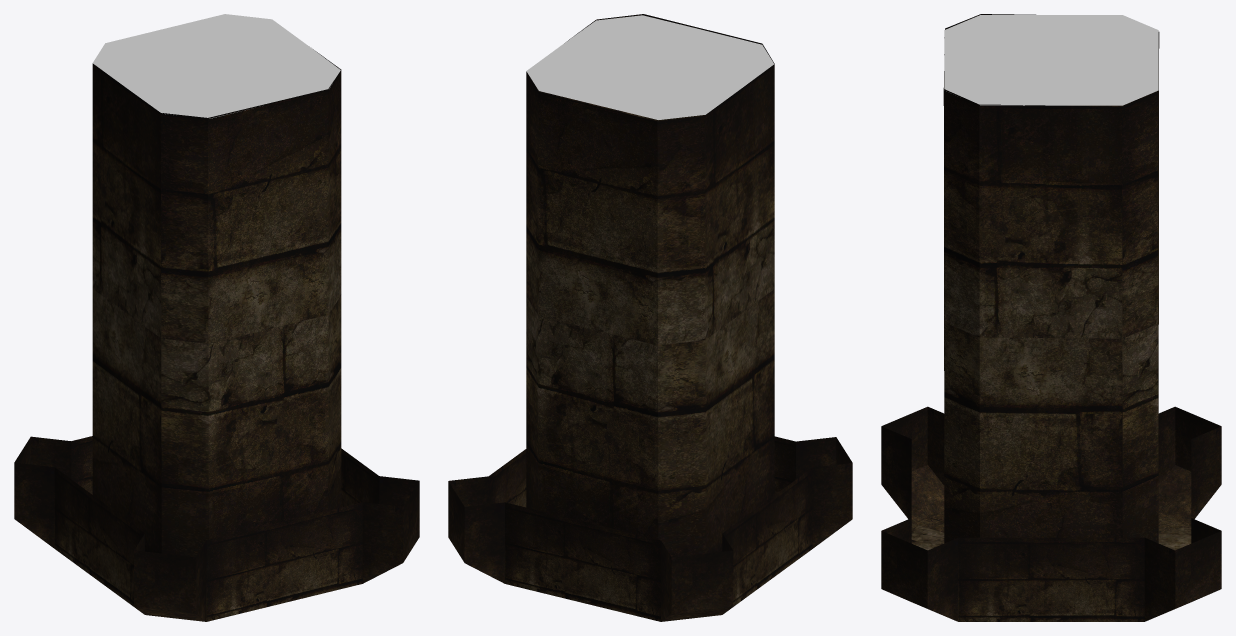
File: window_high_worn.dae
3 views of the same model, side by side, from view 1: azimuth 30°, elevation 25°; view 2: azimuth 150°, elevation 25°; view 3: azimuth 270°, elevation 25° (orthographic). The views are drawn at different scales.
Parts seen in each view (by area): view 1: polySurface4, polySurface5; view 2: polySurface4, polySurface5; view 3: polySurface4, polySurface5.
Part boxes in pixels (x1,y1,x2,y2): polySurface4: [14, 49, 419, 621]; polySurface5: [93, 14, 340, 118]; polySurface4: [448, 14, 852, 621]; polySurface5: [526, 15, 773, 119]; polySurface4: [881, 14, 1221, 621]; polySurface5: [944, 15, 1158, 105].
Bounding box in the file's own units: 3.66 × 5.97 × 3.66.
